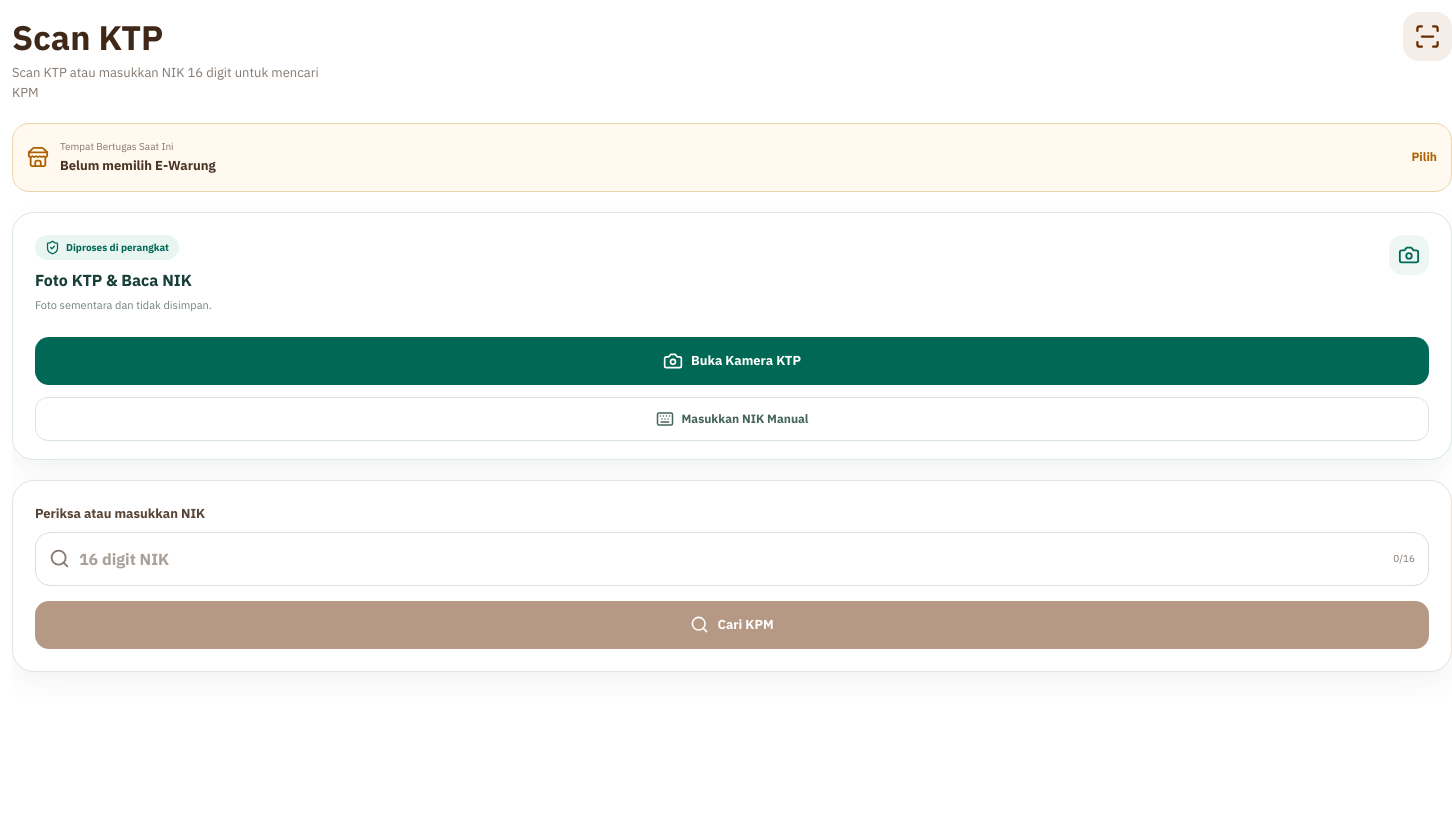
Test case: Surveyor Exact NIK Lookup › rejects NIK that is not exactly 16 digits
In the field with test id "nik-input": (732, 559) [79, 547, 1384, 571], type "357601010101001"
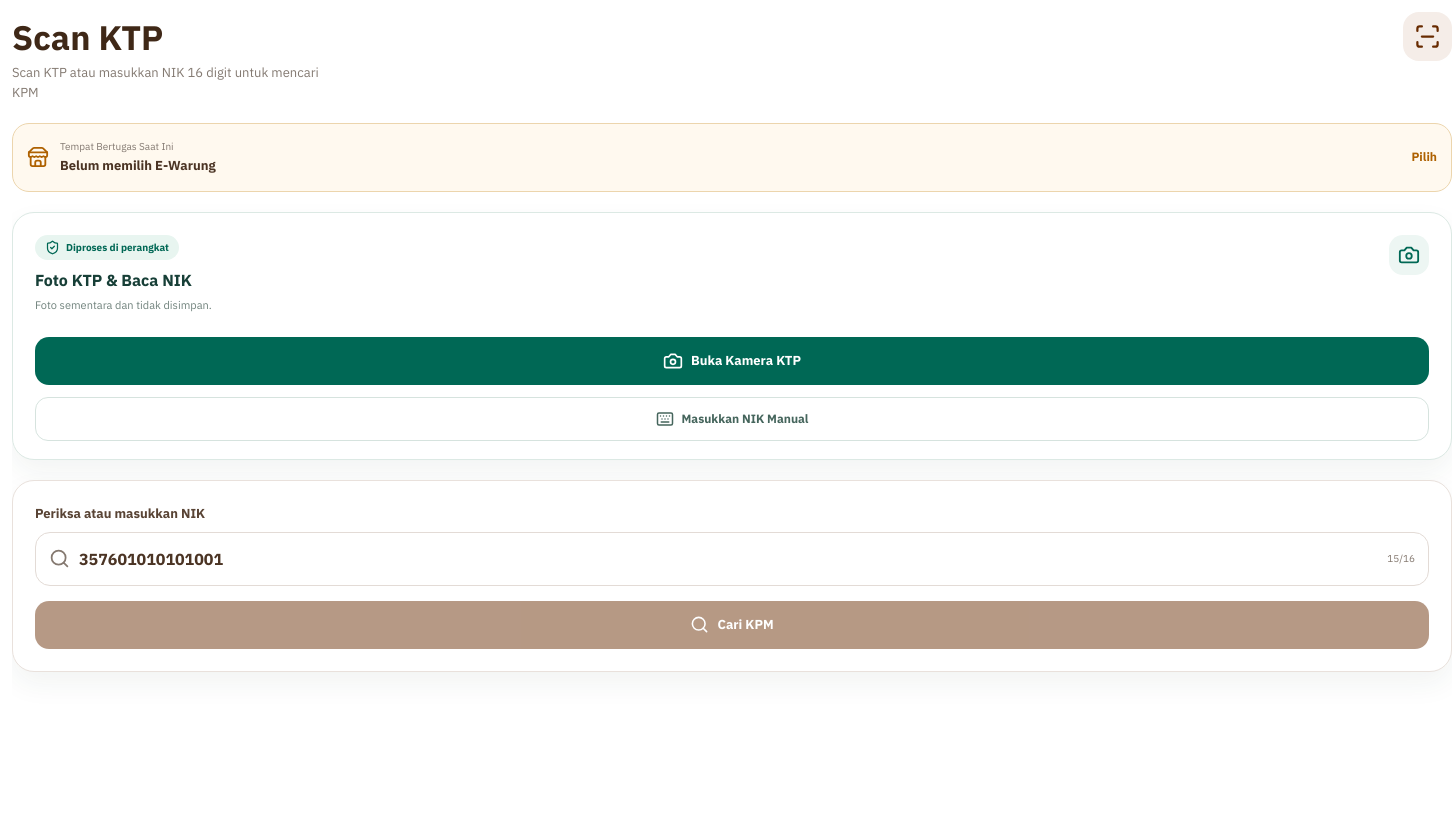
Submit the form, box [35, 503, 1429, 649]
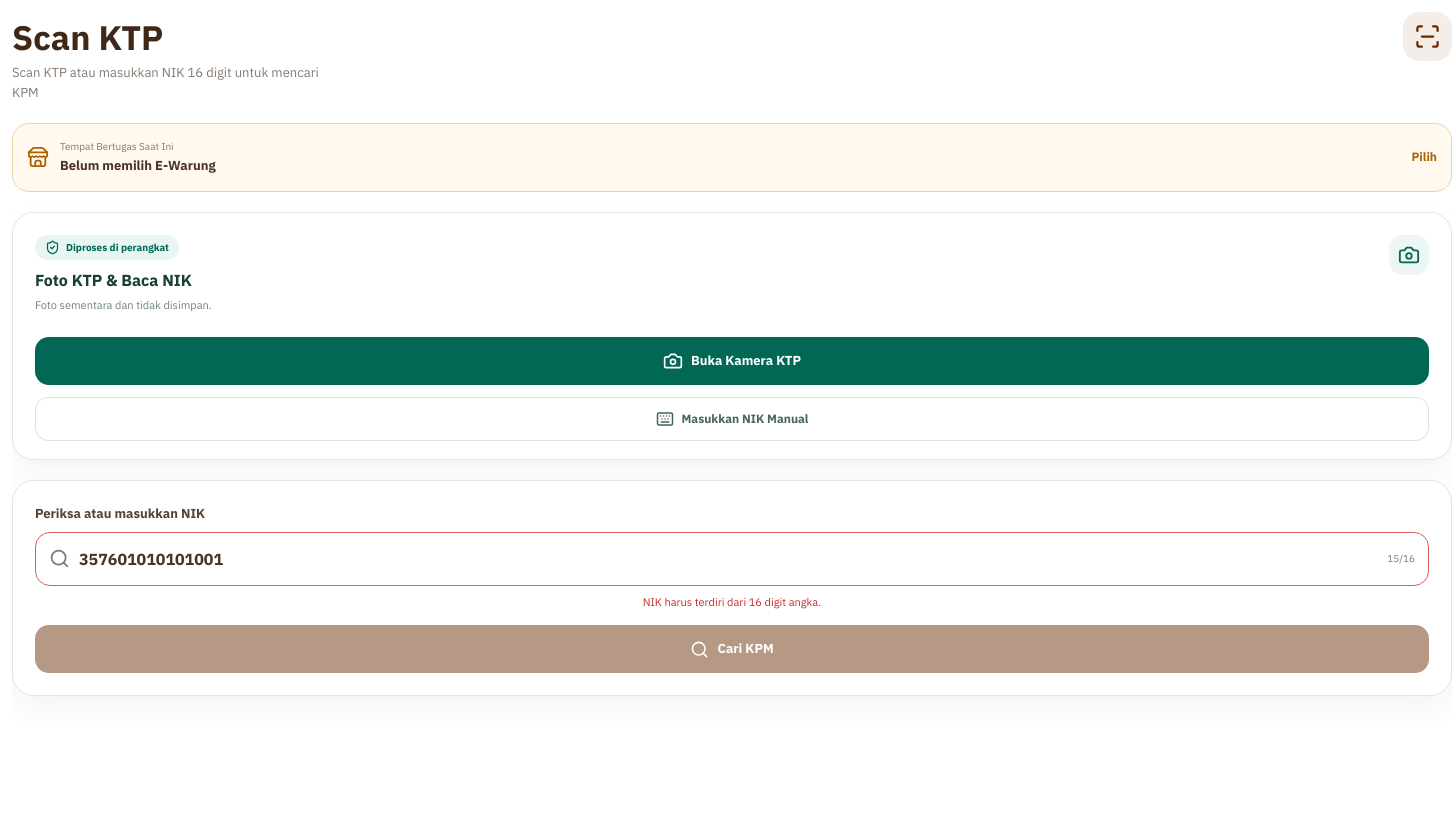
Expected: the text "NIK harus terdiri dari 16 digit angka" is shown, [643, 595, 821, 609]
